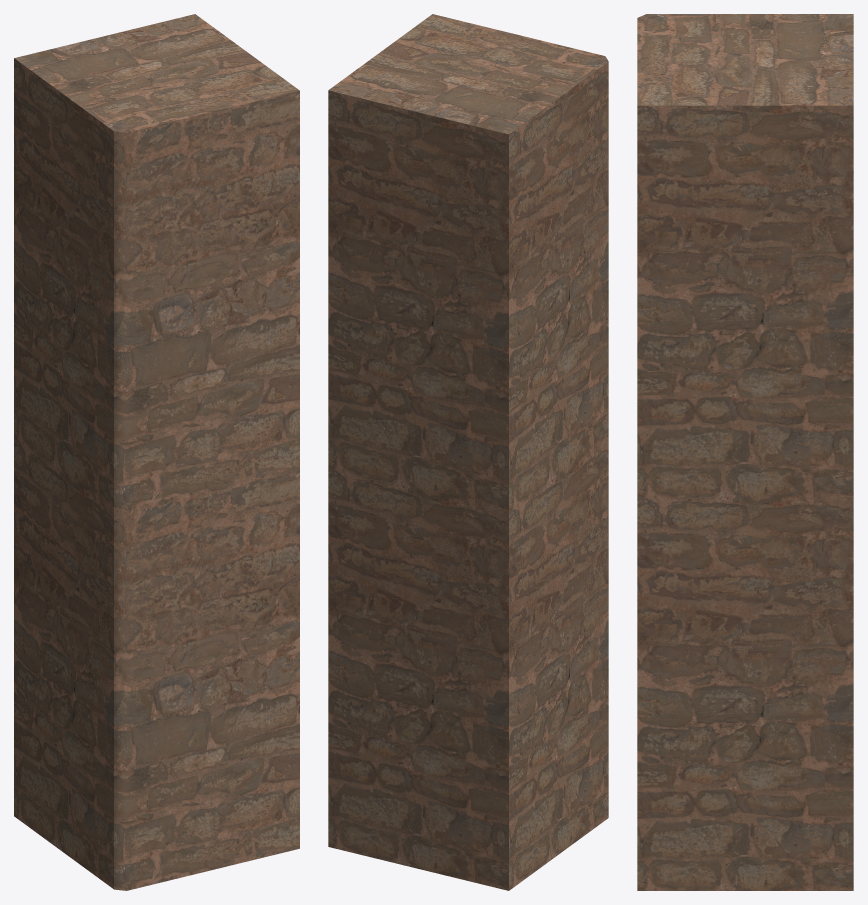
File: WallCorner.fbx
3 renders of one model, left to right at view 1: azimuth 30°, elevation 25°; view 2: azimuth 150°, elevation 25°; view 3: azimuth 270°, elevation 25°, orthographic. The views are drawn at different scales.
Visible parts, largest first — view 1: Wall_Corner; view 2: Wall_Corner; view 3: Wall_Corner.
Part boxes in pixels (x1=…): Wall_Corner: x1=14, y1=14, x2=299, y2=890; Wall_Corner: x1=328, y1=14, x2=608, y2=890; Wall_Corner: x1=637, y1=14, x2=853, y2=890.
Bounding box in the file's own units: 100 × 400 × 100.
